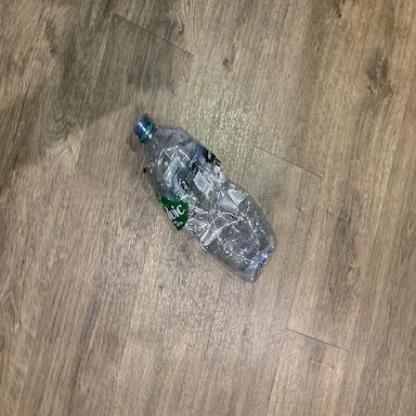trash: (130, 112, 280, 284)
